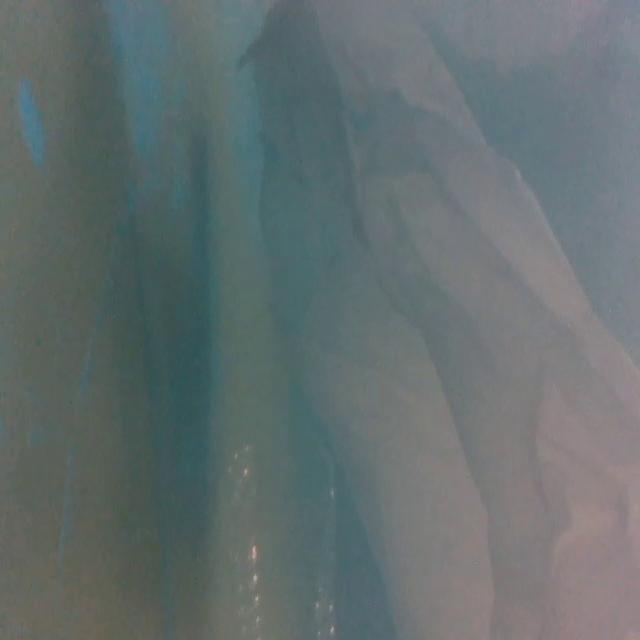plastic bags: (251, 0, 640, 640)
plastic bottle: (214, 410, 347, 640)
